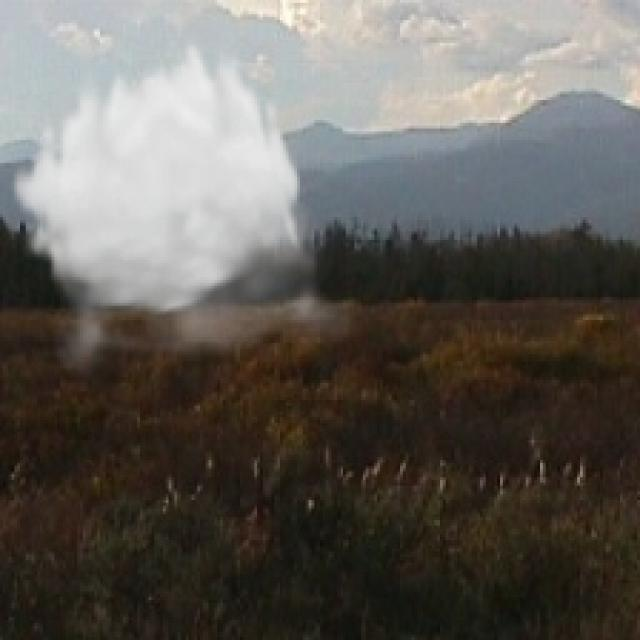smoke: (8, 31, 366, 383)
